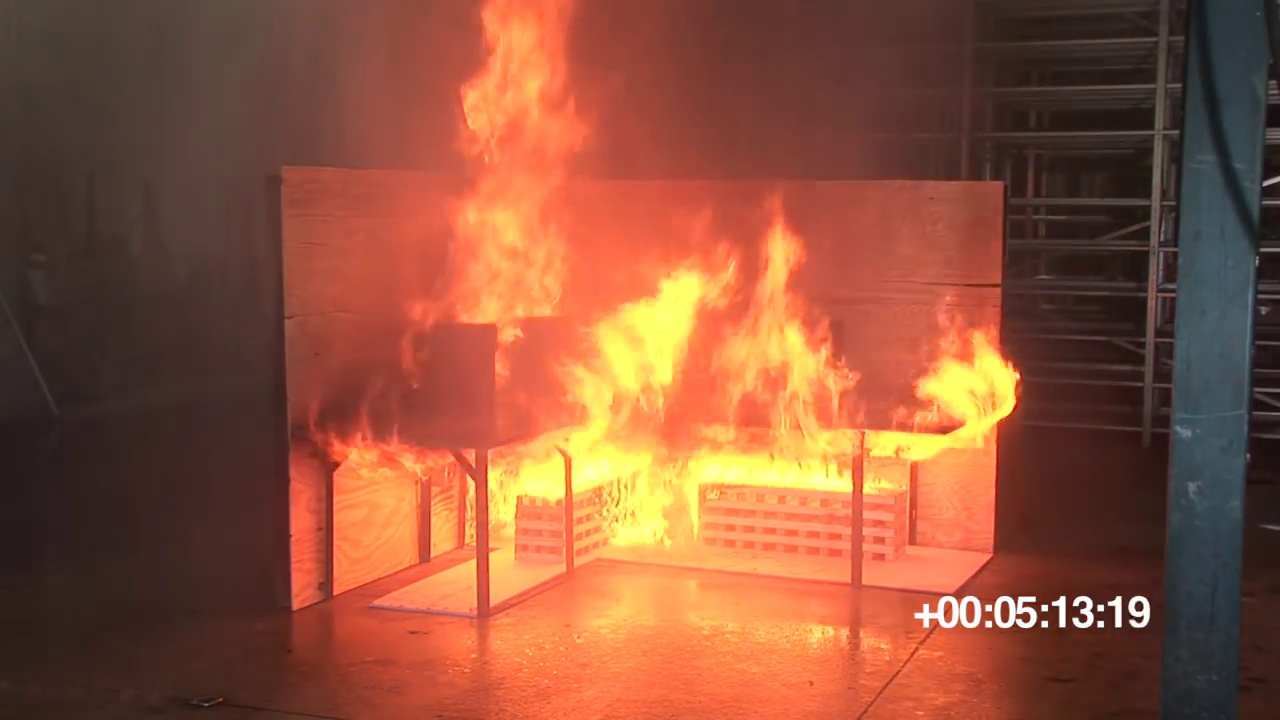fire: (571, 228, 855, 426), (451, 5, 577, 322), (514, 434, 876, 485), (915, 328, 1014, 429), (336, 427, 417, 477)
